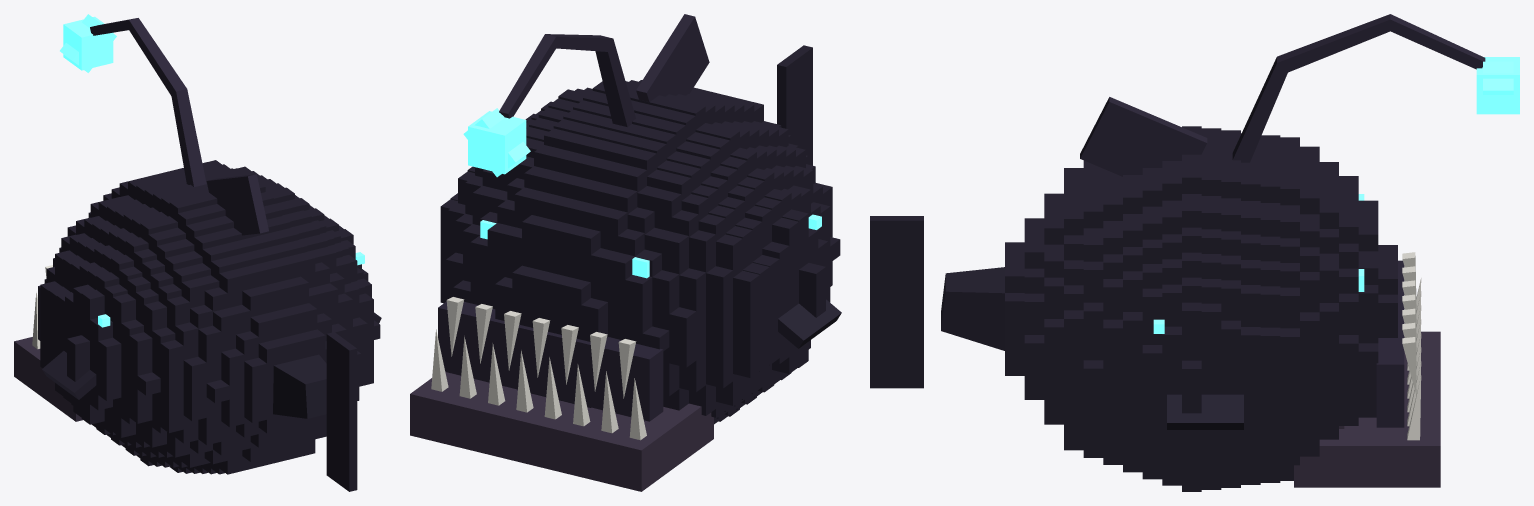
The model's file is AbyssAngler.glb.
3 views of the same model, side by side, from view 1: azimuth 30°, elevation 25°; view 2: azimuth 150°, elevation 25°; view 3: azimuth 270°, elevation 25° (orthographic). The views are drawn at different scales.
Visible parts, largest first — view 1: AbyssAngler_Body, AbyssAngler_Accent, AbyssAngler_TailFin, AbyssAngler_Tail, AbyssAngler_Glow, AbyssAngler_Jaw; view 2: AbyssAngler_Body, AbyssAngler_Accent, AbyssAngler_Jaw, AbyssAngler_JawTeeth, AbyssAngler_Teeth, AbyssAngler_Glow, AbyssAngler_TailFin; view 3: AbyssAngler_Body, AbyssAngler_Accent, AbyssAngler_Jaw, AbyssAngler_TailFin, AbyssAngler_Tail, AbyssAngler_Glow, AbyssAngler_Teeth, AbyssAngler_JawTeeth.
Part boxes in pixels (x1,y1,x2,y2): AbyssAngler_Body: (40, 160, 381, 474); AbyssAngler_Accent: (38, 18, 268, 340); AbyssAngler_TailFin: (326, 332, 357, 491); AbyssAngler_Tail: (273, 354, 326, 418); AbyssAngler_Glow: (60, 14, 364, 327); AbyssAngler_Jaw: (14, 337, 82, 421); AbyssAngler_Body: (440, 80, 841, 424); AbyssAngler_Accent: (438, 14, 709, 421); AbyssAngler_Jaw: (410, 372, 713, 491); AbyssAngler_JawTeeth: (431, 329, 646, 440); AbyssAngler_Teeth: (446, 297, 636, 398); AbyssAngler_Glow: (463, 108, 821, 278); AbyssAngler_TailFin: (777, 45, 812, 165); AbyssAngler_Body: (1005, 126, 1397, 491); AbyssAngler_Accent: (1080, 14, 1485, 427); AbyssAngler_Jaw: (1294, 331, 1440, 487); AbyssAngler_TailFin: (870, 216, 923, 388); AbyssAngler_Tail: (941, 267, 1004, 350); AbyssAngler_Glow: (1153, 57, 1519, 333); AbyssAngler_Teeth: (1402, 252, 1416, 394); AbyssAngler_JawTeeth: (1407, 278, 1421, 440).
Bounding box in the file's own units: 2.73 × 3.22 × 4.22.
